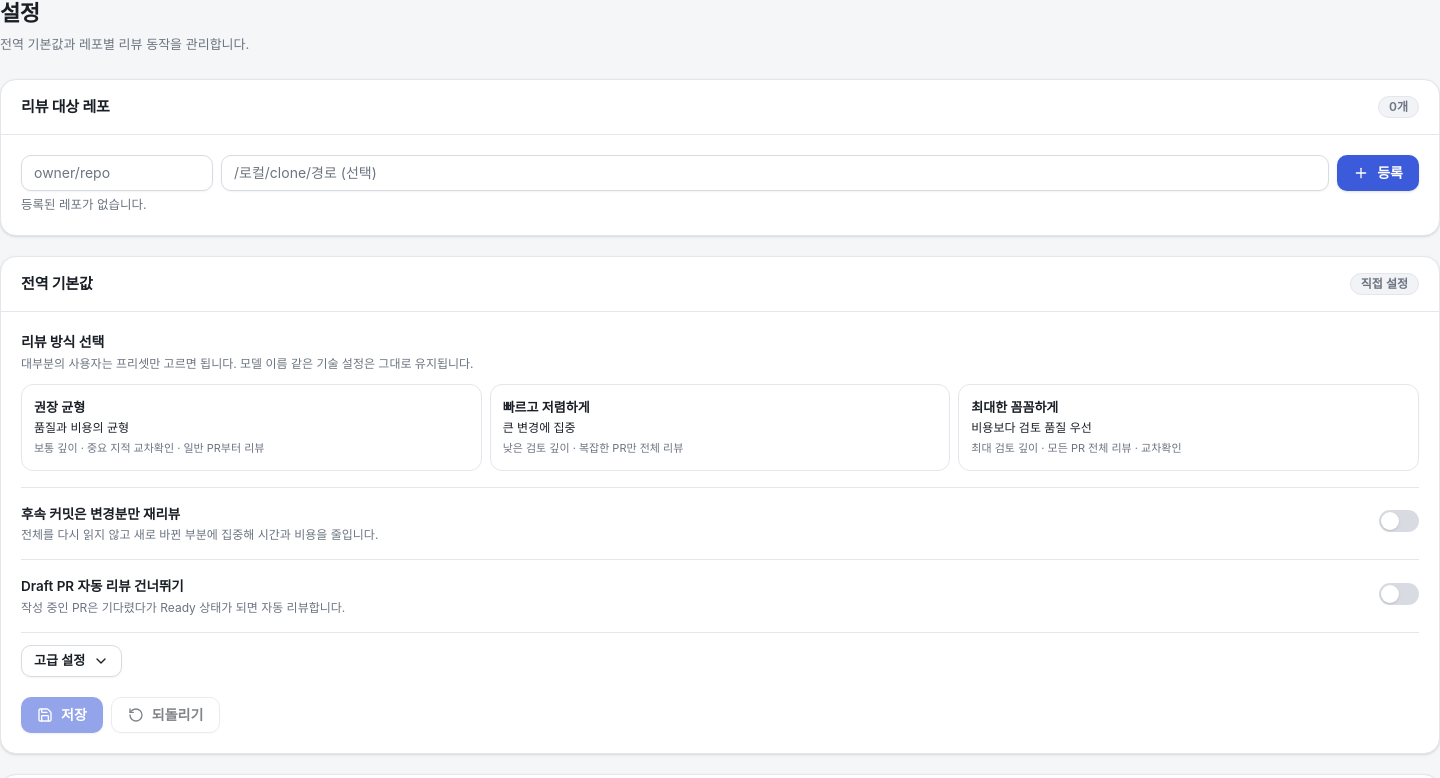
warns when an existing non-Claude prescreen model will fall back
The width and height of the screenshot is (1440, 778).
Step 1. Click the button with aria-label "전역 고급 설정 펼치기" → (72, 661), box [21,645,122,677]
(page scrolled)
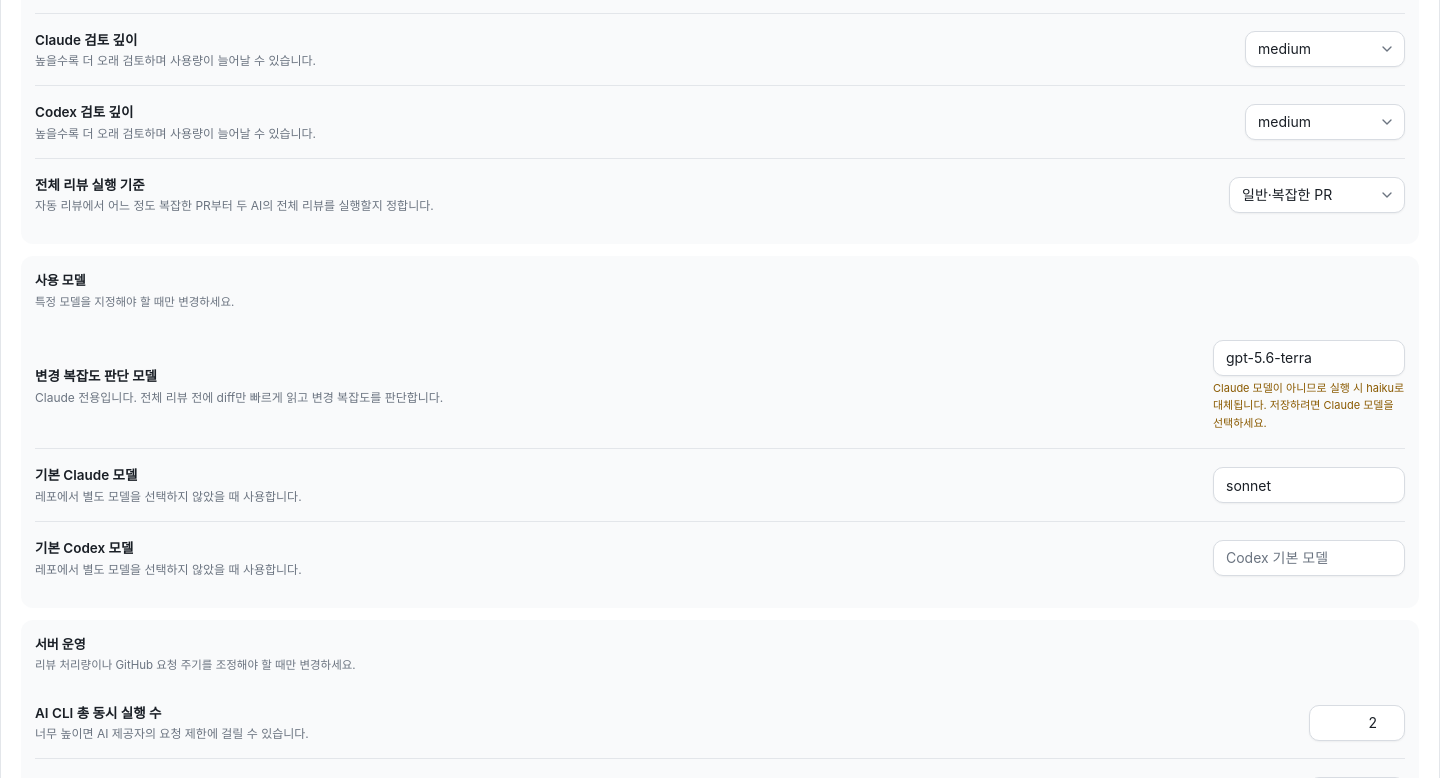
Result: the text "Claude 모델이 아니므로 실행 시 haiku로 대체됩니다. 저장하려면 Claude 모델을 선택하세요." is shown at [1213,380,1405,432]
